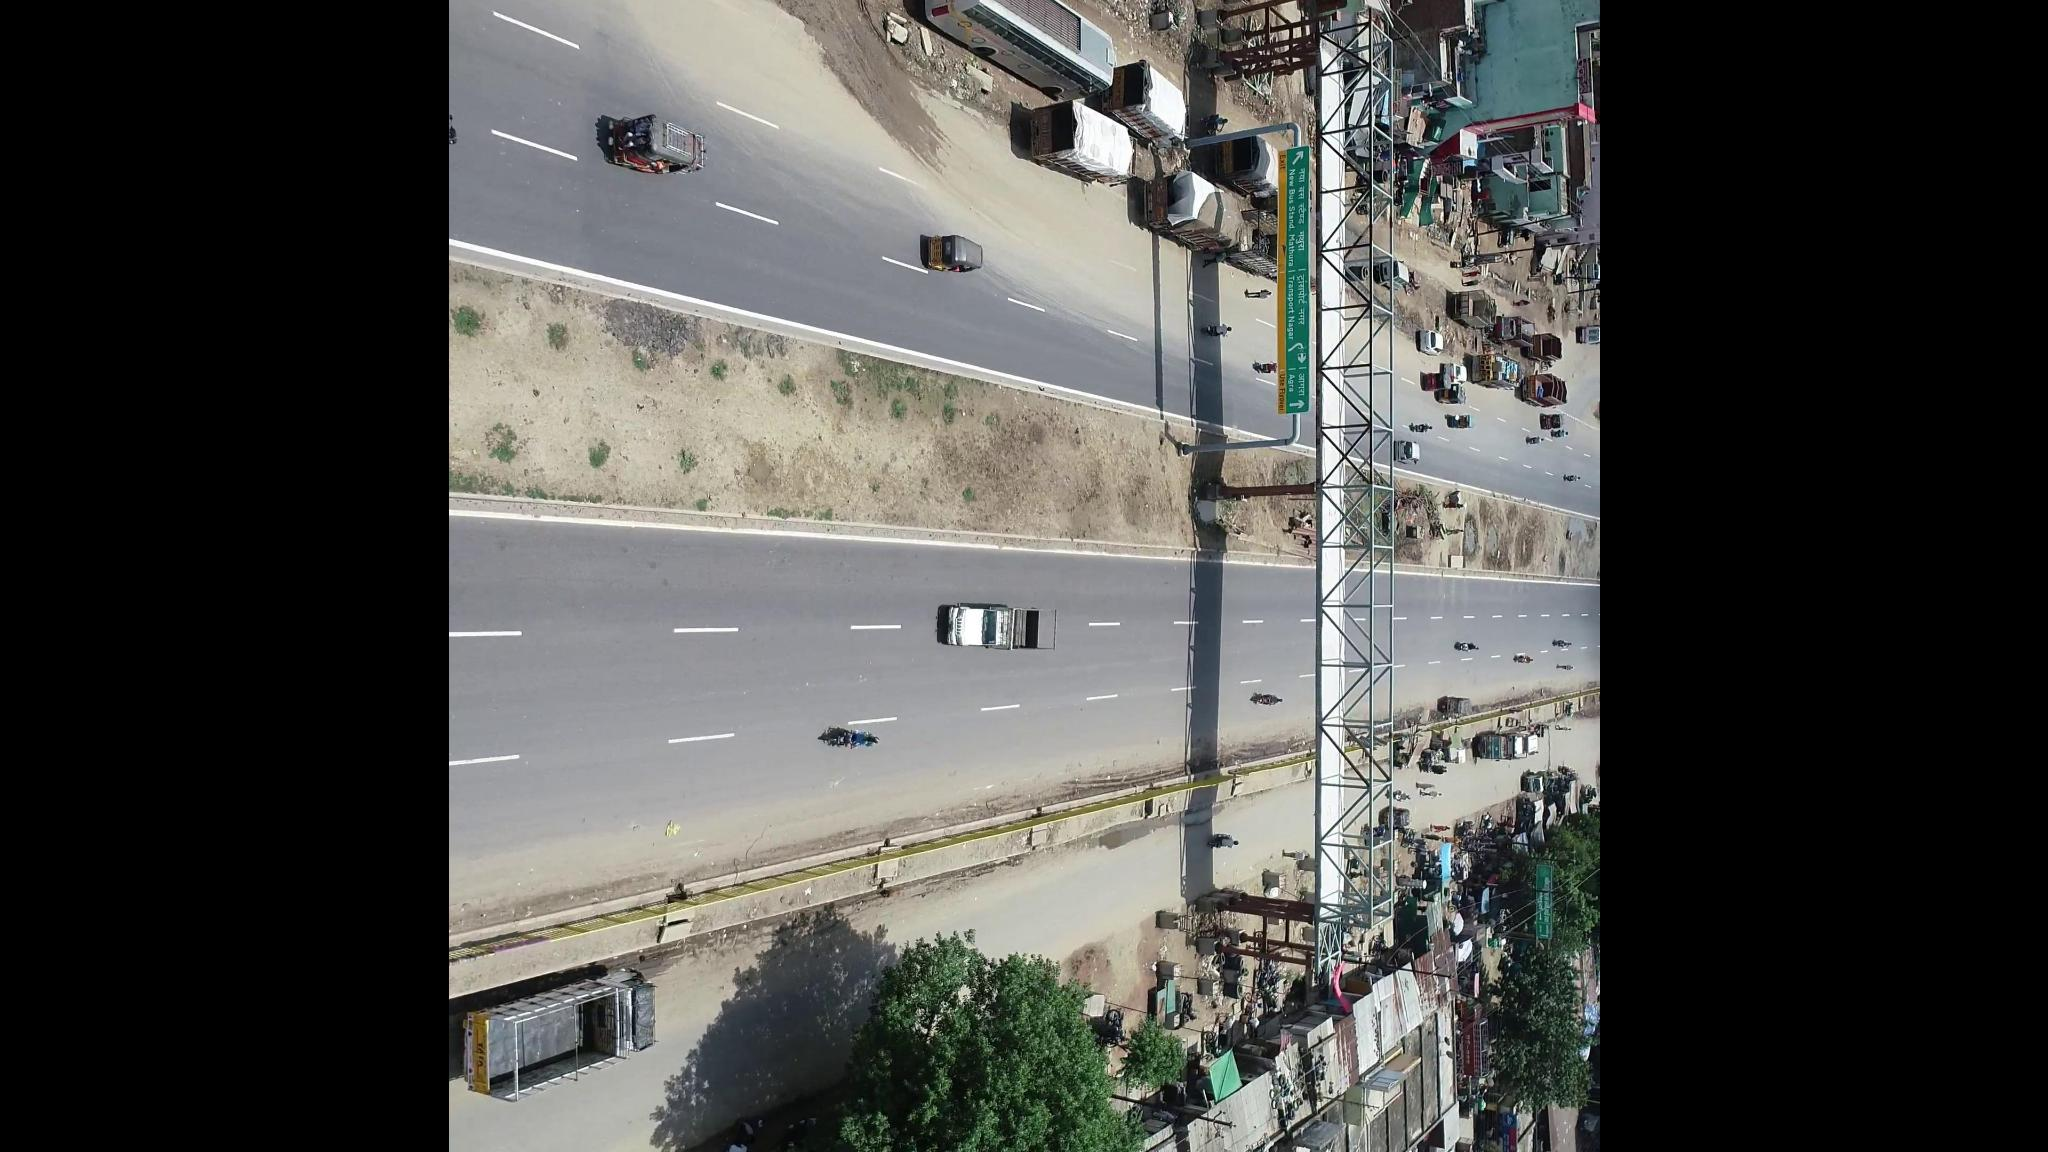Muddy_road: (736, 20, 940, 179), (980, 181, 1139, 264)
